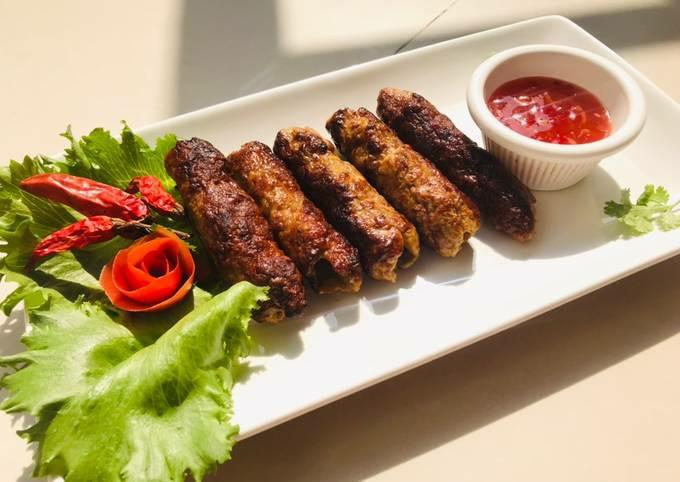Kebab: (164, 138, 306, 323), (375, 86, 536, 239), (272, 129, 421, 280), (328, 109, 473, 258), (228, 140, 363, 295)
